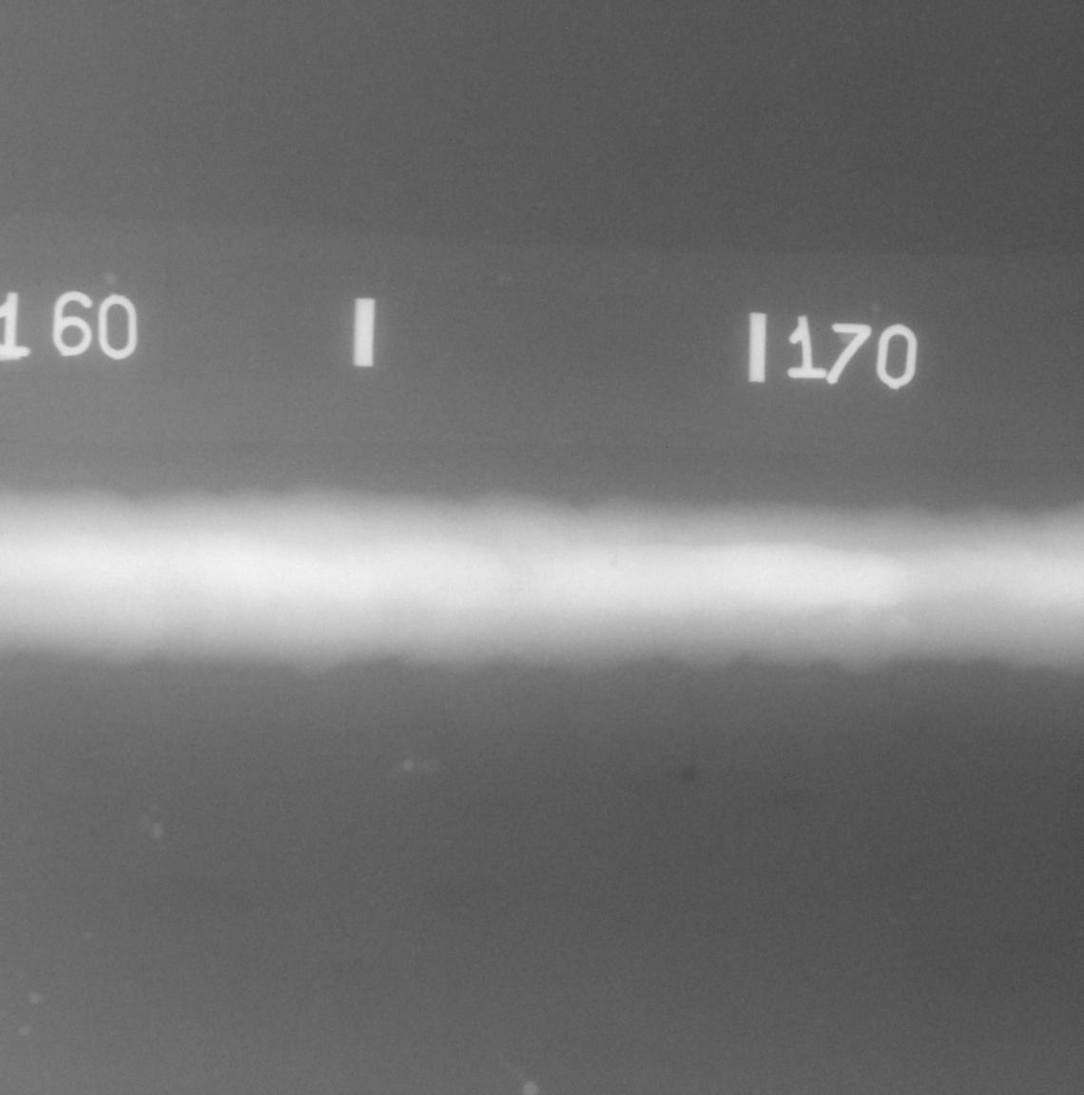Pore/Porosity: (610, 556, 617, 567)
